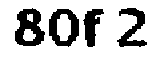0: (49, 7, 79, 50)
2: (114, 6, 148, 52)
8: (13, 5, 46, 49)
f: (80, 8, 109, 52)
